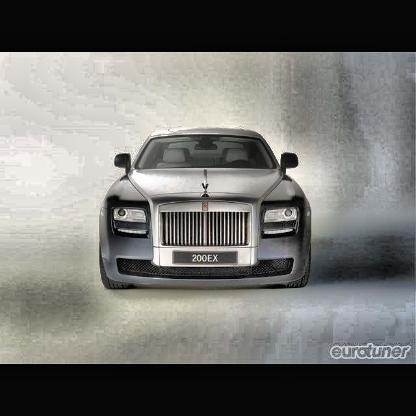Rolls-Royce Ghost Sedan 2012: (99, 131, 314, 292)
